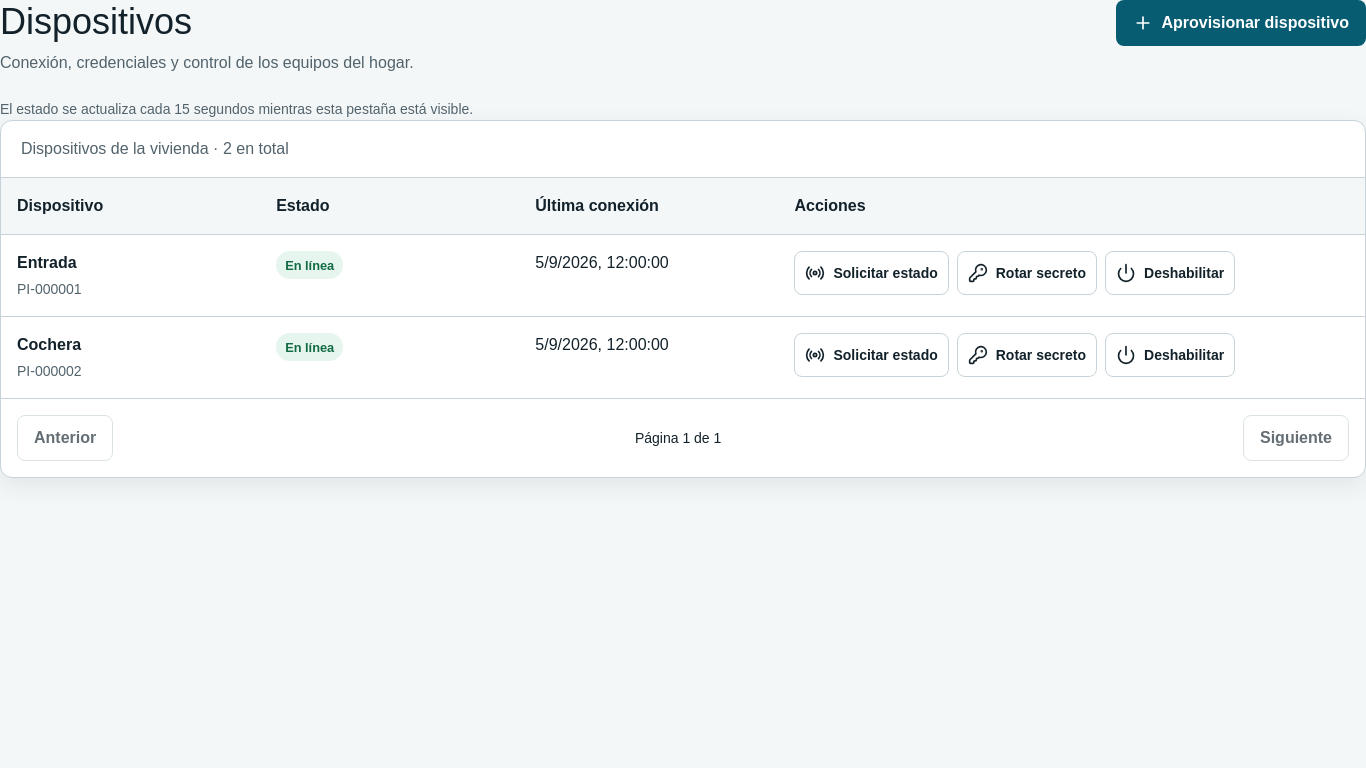
Test case: Dispositivos › keeps a status command bound to its owner while another device action opens
Expected: the text "Cochera" is shown, x1=17 y1=336 x2=81 y2=353
Click the button with aria-label "Solicitar estado de Entrada" at (872, 273), box x1=794 y1=251 x2=949 y2=295
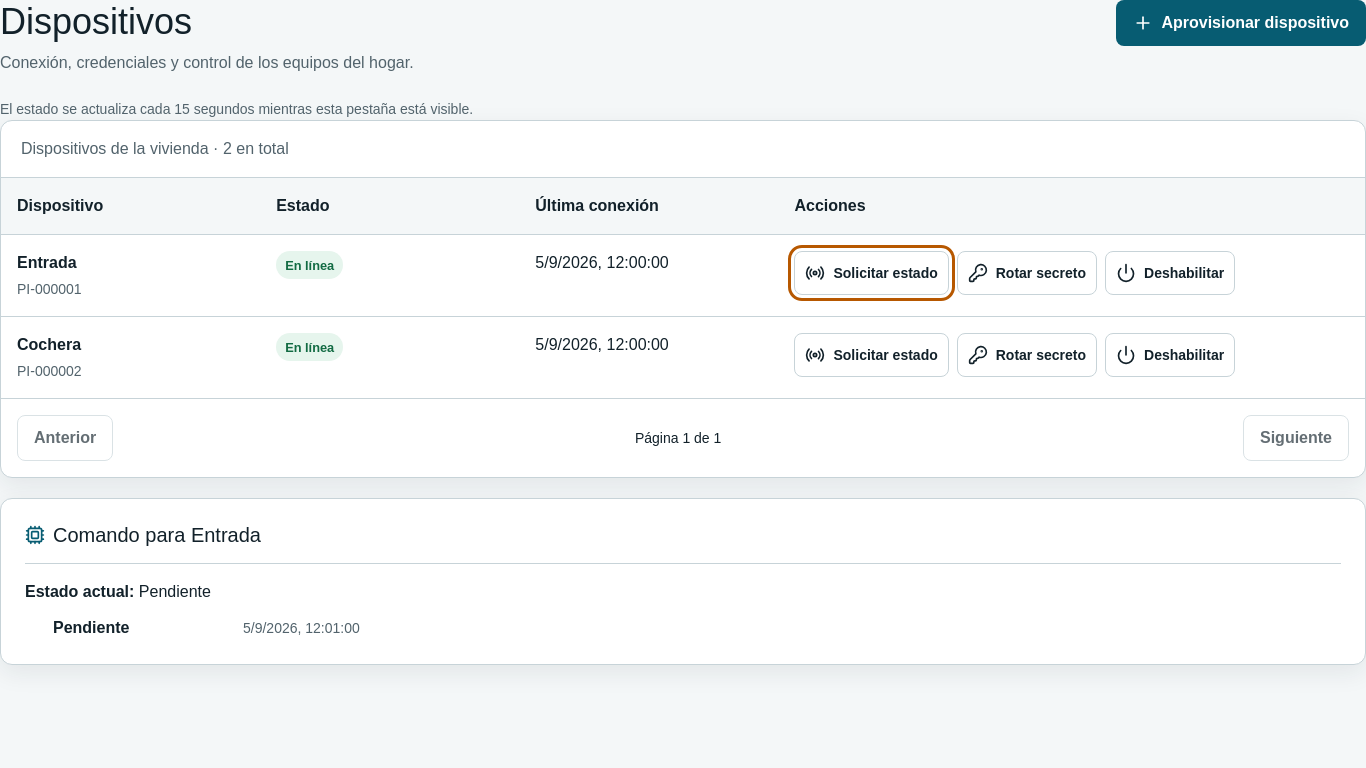
Click the button with aria-label "Rotar secreto de Cochera" at (1027, 355), box x1=957 y1=333 x2=1097 y2=377
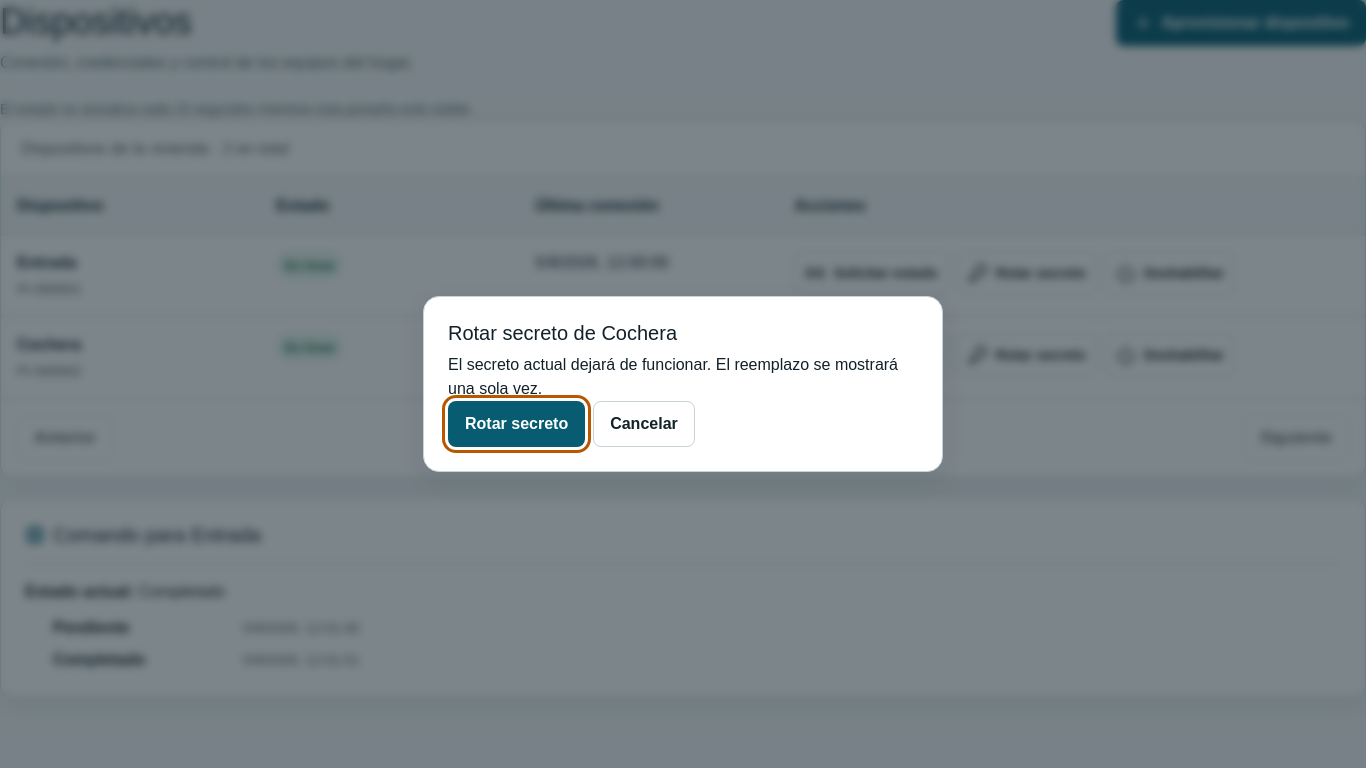
Result: the dialog "Rotar secreto de Cochera" is shown at x1=423 y1=296 x2=943 y2=472
